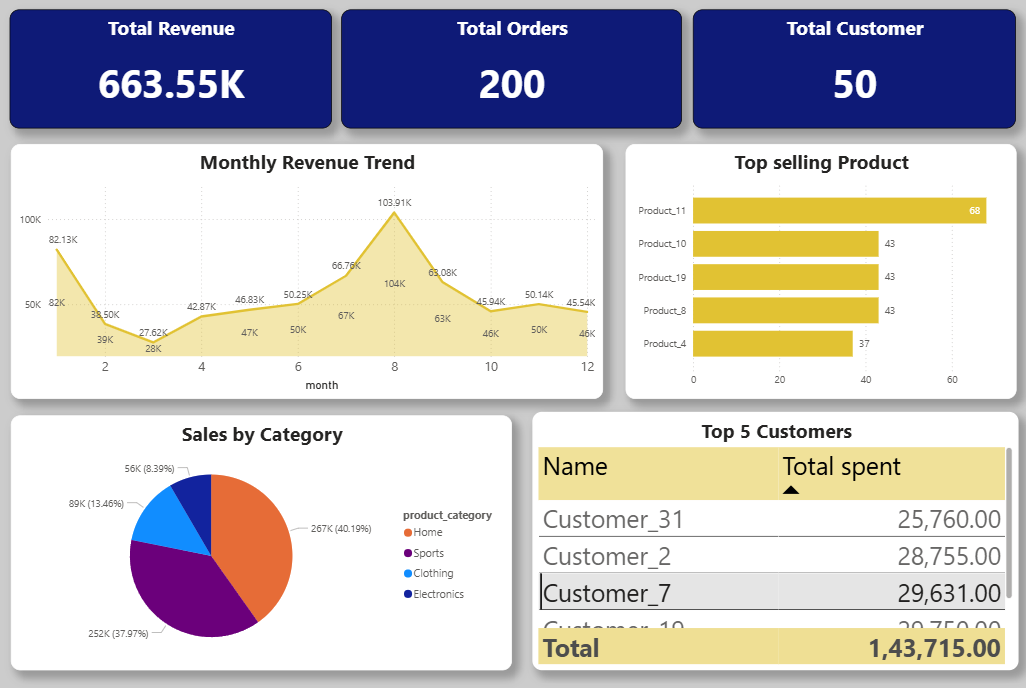

The page's visual inventory and layout, read from the dashboard file:
{"tool":"powerbi","page":{"name":"Page 1","canvas":[1280,860],"ordinal":0},"visuals":[{"type":"card","title":"Total Customer","fields":{"Values":["ecommerce orders_clean.Total Customers"]},"box":[864.7,11.8,402.9,148.5],"z":0},{"type":"card","title":"Total Orders","fields":{"Values":["ecommerce orders_clean.Total Orders"]},"box":[426.5,11.8,425,148.5],"z":1000},{"type":"card","title":"Total Revenue","fields":{"Values":["ecommerce orders_clean.Total Revenue"]},"box":[13.2,11.8,401.5,148.5],"z":2000},{"type":"stackedAreaChart","title":"Monthly Revenue Trend","fields":{"Category":["ecommerce monthly_sales.month"],"Y":["Sum(ecommerce monthly_sales.revenue)"]},"box":[14.3,179.4,738.1,317.5],"z":3000},{"type":"clusteredBarChart","title":"Top selling Product","fields":{"Category":["ecommerce top_products.product_name"],"Y":["Sum(ecommerce top_products.total_sold)"]},"box":[781,179.4,487.3,317.5],"z":4000},{"type":"pieChart","title":"Sales by Category","fields":{"Category":["ecommerce products_clean.product_category"],"Y":["Sum(ecommerce orders_clean.revenue)"]},"box":[14.7,517.6,625,317.6],"z":5000},{"type":"tableEx","title":"Top 5 Customers","fields":{"Values":["ecommerce top_customers.name","Sum(ecommerce top_customers.total_spent)"]},"box":[664.7,513.2,605.9,322.1],"z":6000}]}

Visuals, with their boxes in screenshot pixels (x1, y1, x2, y2), scaled from the page's 1280x860 canvas onto the 1026x688 screenshot:
"Total Customer" card: <region>693, 9, 1016, 128</region>
"Total Orders" card: <region>342, 9, 683, 128</region>
"Total Revenue" card: <region>11, 9, 332, 128</region>
"Monthly Revenue Trend" stackedAreaChart: <region>11, 144, 603, 398</region>
"Top selling Product" clusteredBarChart: <region>626, 144, 1017, 398</region>
"Sales by Category" pieChart: <region>12, 414, 513, 668</region>
"Top 5 Customers" tableEx: <region>533, 411, 1018, 668</region>
